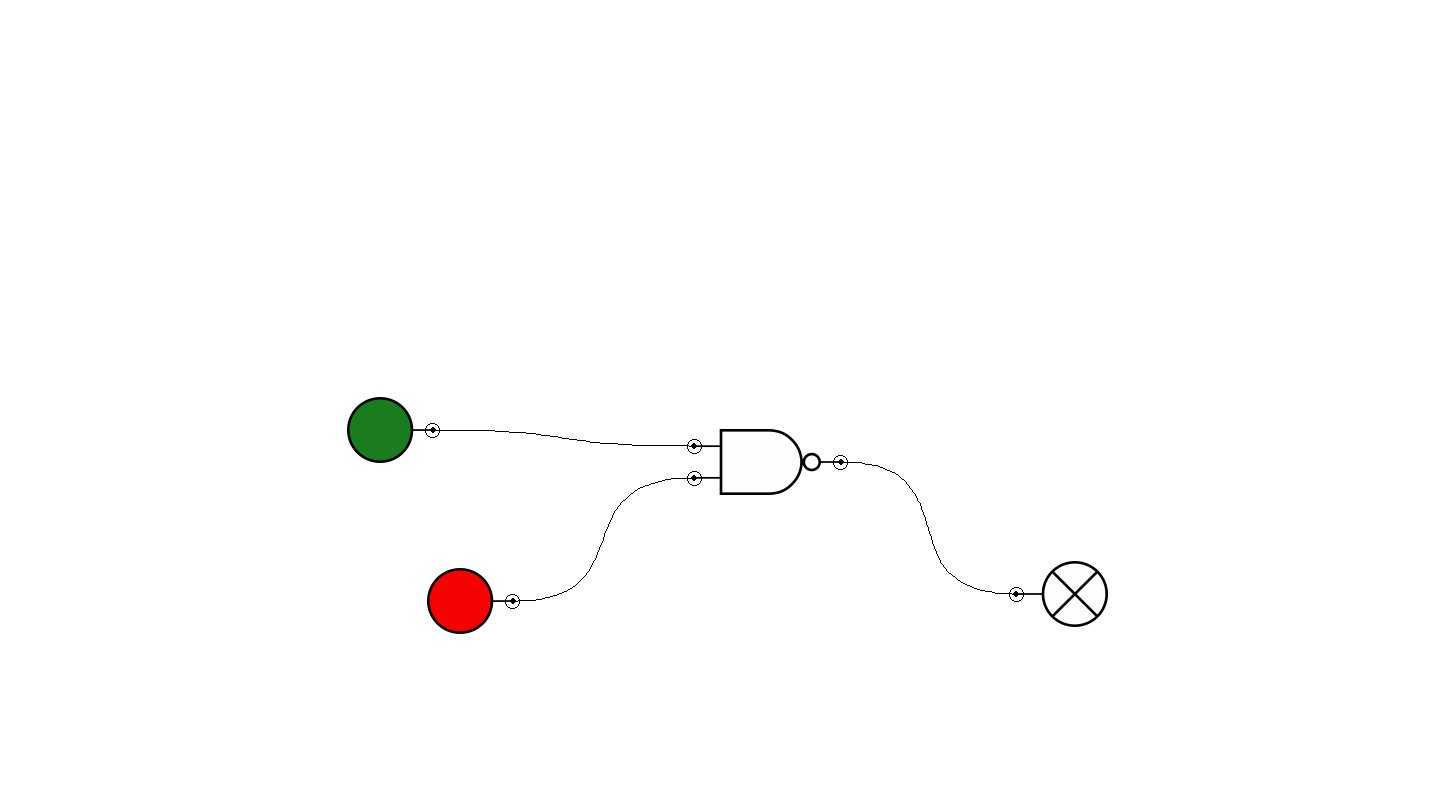bulb: (1009, 561, 1108, 627)
nand: (687, 429, 848, 495)
switch_False: (427, 568, 520, 634)
switch_True: (347, 397, 440, 463)
